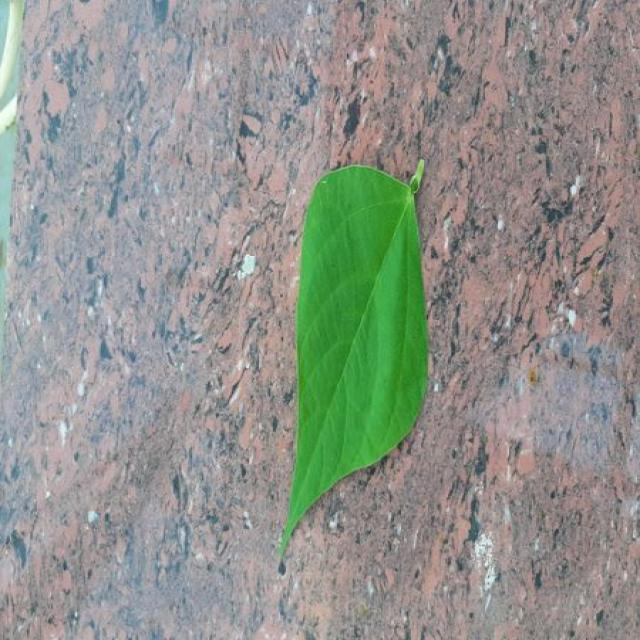beans: (280, 161, 428, 552)
